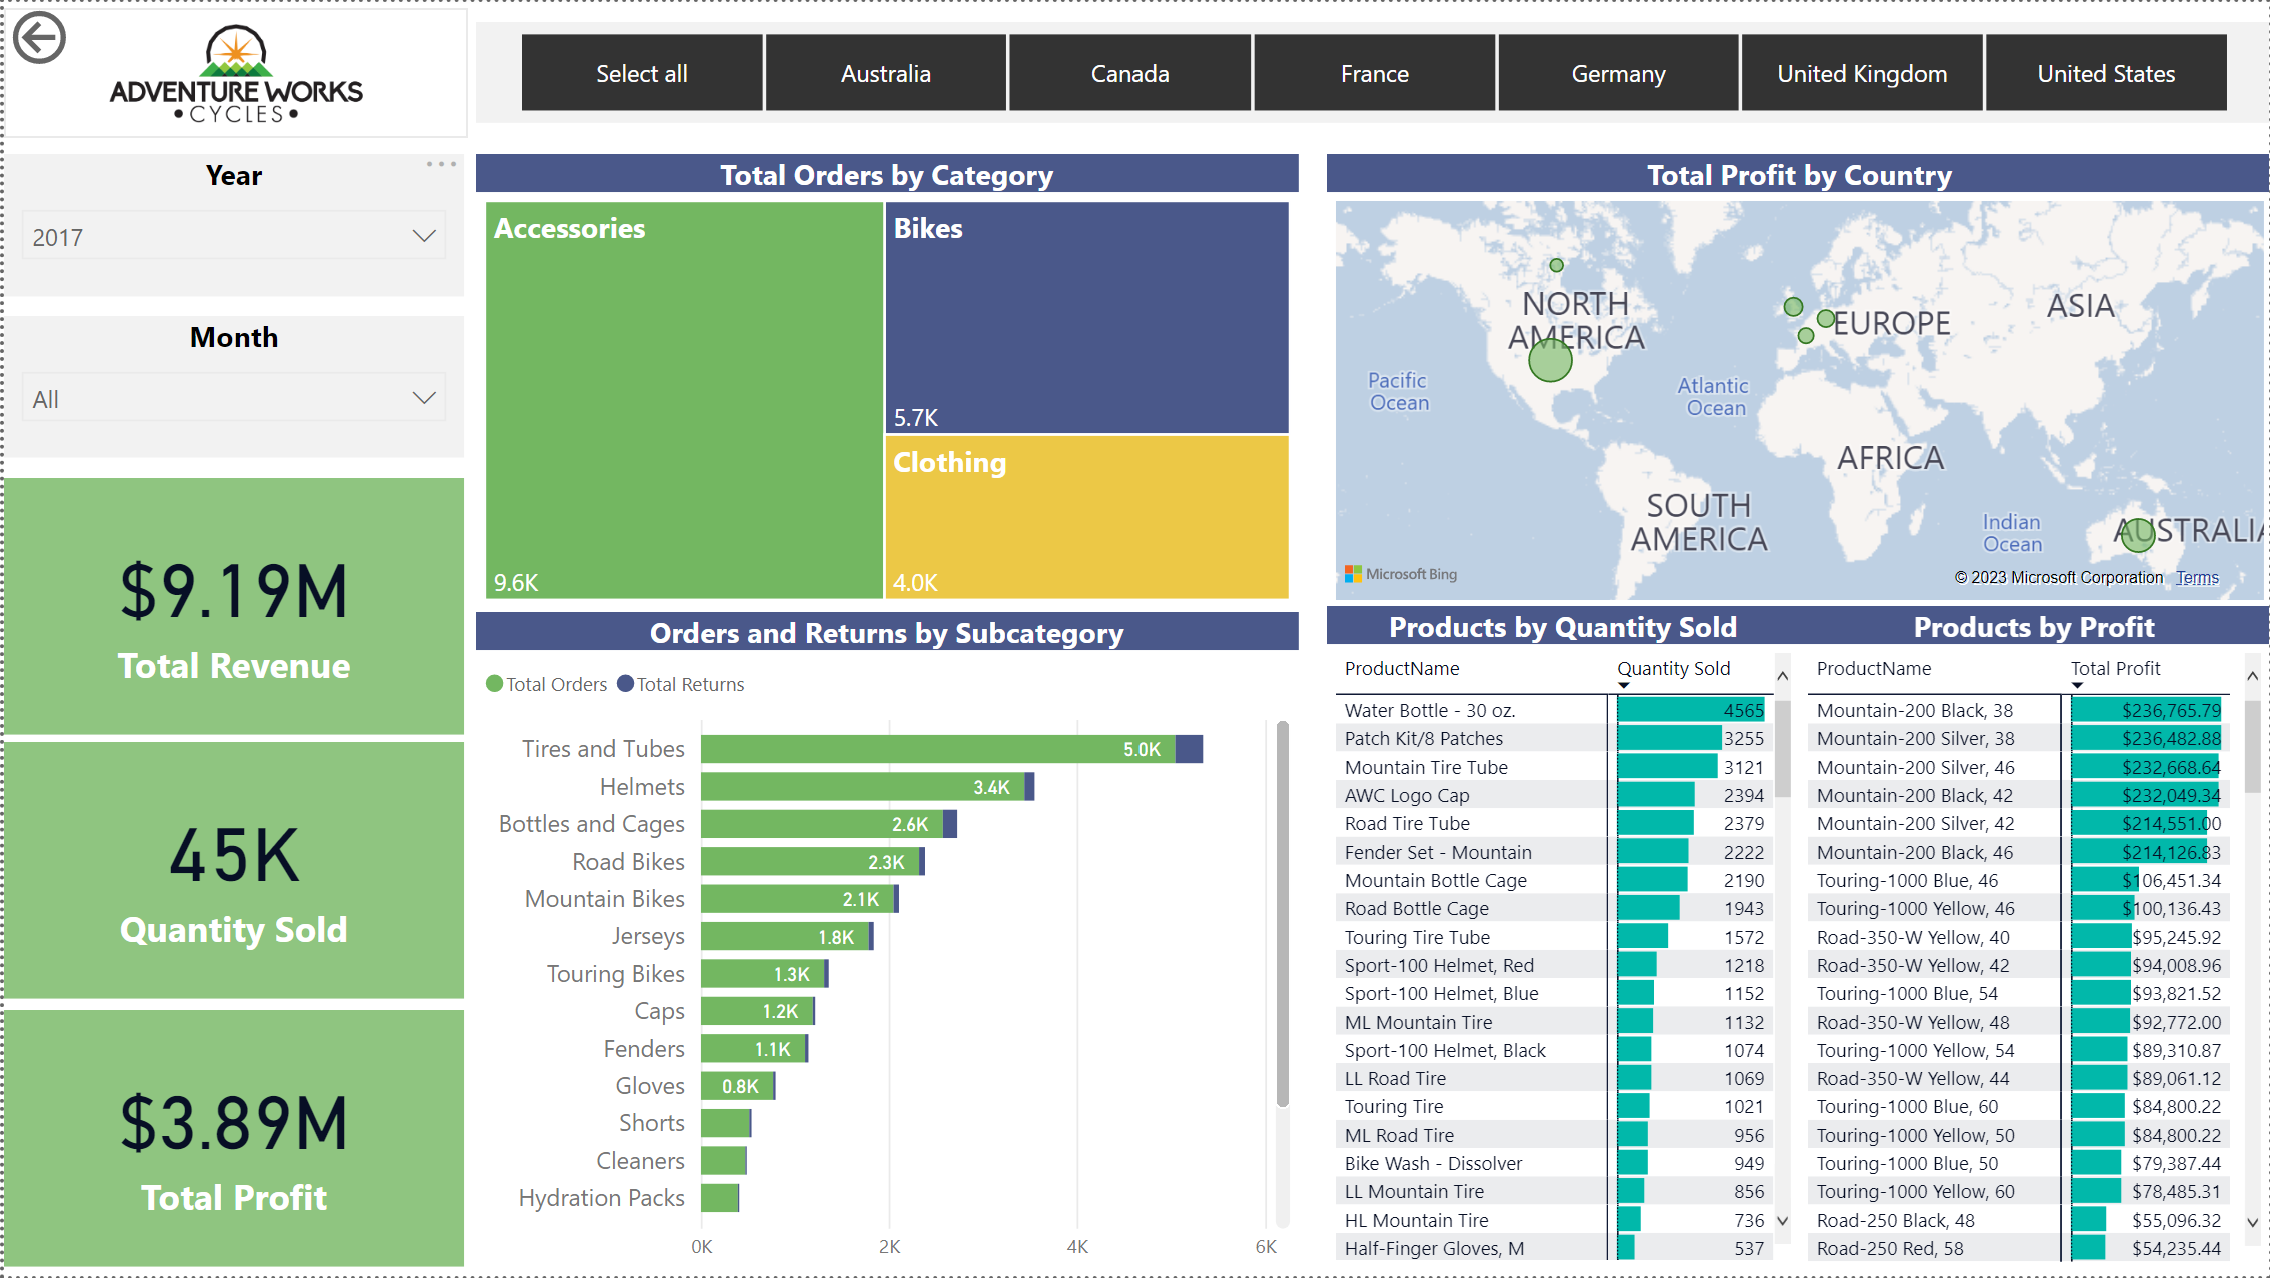

Layout of this report page (visuals, bound fields, positions):
{"tool":"powerbi","page":{"name":"Excutive Summary","canvas":[1280,720],"ordinal":0},"visuals":[{"type":"image","box":[0,2.9,261.8,74.2],"z":0},{"type":"treemap","title":"Total Orders by Category","fields":{"Group":["AW_Product_Category_Lookup.CategoryName"],"Values":["AW_Sales.Total Orders"]},"box":[267.1,85.7,464.3,257.1],"z":1000},{"type":"actionButton","box":[0,0,100,40],"z":2000},{"type":"card","fields":{"Values":["AW_Sales.Total Revenue"]},"box":[0,268.6,260,145],"z":3000},{"type":"card","fields":{"Values":["AW_Sales.Quantity Sold"]},"box":[0,418.6,260,145],"z":4000},{"type":"slicer","title":"Year","fields":{"Values":["AW_Calendar_Lookup.Year"]},"box":[0,85.7,260,80],"z":5000},{"type":"slicer","title":"Month","fields":{"Values":["AW_Calendar_Lookup.Month Name"]},"box":[0,177.1,260,80],"z":6000},{"type":"slicer","title":"Country","fields":{"Values":["AW_Territories_Lookup.Country"]},"box":[267.1,11.4,1012.9,57.1],"z":7000},{"type":"card","fields":{"Values":["AW_Sales.Total Profit"]},"box":[0,570,260,145],"z":8000},{"type":"barChart","title":"Orders and Returns by Subcategory","fields":{"Y":["AW_Sales.Total Orders","AW_Returns.Total Returns"],"Category":["AW_Product_Subcategory_Lookup.SubcategoryName"]},"box":[267.1,344.3,464.3,375.7],"z":9000},{"type":"map","title":"Total Profit by Country","fields":{"Category":["AW_Territories_Lookup.Country"],"Size":["AW_Sales.Total Profit"]},"box":[747.1,85.7,534.3,257.1],"z":10000},{"type":"pivotTable","title":"Products by Quantity Sold","fields":{"Rows":["AW_Product_Lookup.ProductName"],"Values":["AW_Sales.Quantity Sold"]},"box":[747.1,341.4,267.1,374.3],"z":11000},{"type":"pivotTable","title":"Products by Profit","fields":{"Rows":["AW_Product_Lookup.ProductName"],"Values":["AW_Sales.Total Profit"]},"box":[1014,341.3,266,375.5],"z":12000}]}

Visuals, with their boxes in screenshot pixels (x1, y1, x2, y2), scaled from the page's 1280x720 canvas onto the 2270x1278 screenshot:
image: box=[0, 5, 464, 137]
"Total Orders by Category" treemap: box=[474, 152, 1297, 608]
actionButton: box=[0, 0, 177, 71]
card - AW_Sales.Total Revenue: box=[0, 477, 461, 734]
card - AW_Sales.Quantity Sold: box=[0, 743, 461, 1000]
"Year" slicer: box=[0, 152, 461, 294]
"Month" slicer: box=[0, 314, 461, 456]
"Country" slicer: box=[474, 20, 2269, 122]
card - AW_Sales.Total Profit: box=[0, 1012, 461, 1269]
"Orders and Returns by Subcategory" barChart: box=[474, 611, 1297, 1277]
"Total Profit by Country" map: box=[1325, 152, 2269, 608]
"Products by Quantity Sold" pivotTable: box=[1325, 606, 1799, 1270]
"Products by Profit" pivotTable: box=[1798, 606, 2269, 1272]
